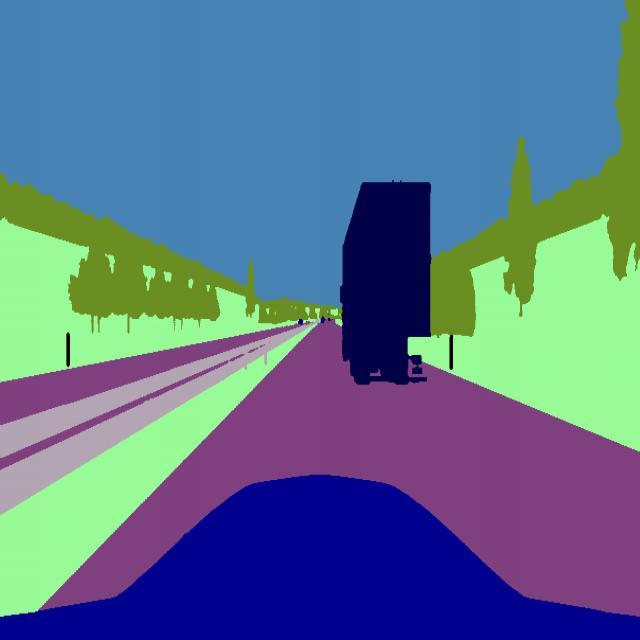safe: (339, 178, 432, 396)
